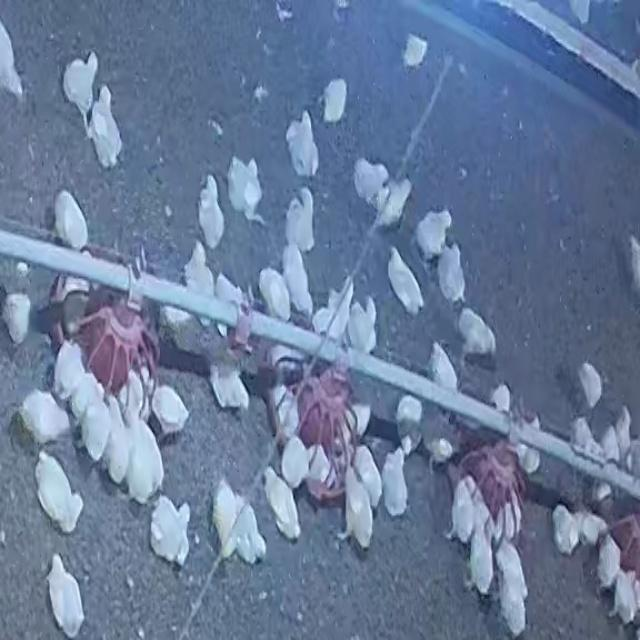chicken: (34, 451, 85, 535), (124, 408, 168, 503), (45, 555, 87, 638), (493, 543, 529, 636), (17, 389, 73, 447), (149, 494, 192, 568), (339, 461, 373, 548), (226, 156, 267, 226), (86, 86, 121, 167), (263, 468, 301, 541), (52, 338, 91, 403), (61, 51, 97, 121), (80, 391, 115, 463), (0, 19, 29, 105), (385, 244, 421, 310), (53, 189, 90, 251), (208, 361, 252, 413), (104, 401, 132, 482), (230, 503, 266, 564), (281, 244, 312, 314), (150, 384, 190, 438), (284, 189, 316, 256), (197, 175, 225, 250), (211, 478, 239, 553), (213, 268, 247, 329), (448, 476, 478, 545), (322, 280, 354, 344), (380, 447, 409, 517), (284, 110, 315, 175), (460, 311, 499, 361), (258, 266, 292, 323), (468, 521, 494, 595), (347, 296, 379, 356), (353, 443, 382, 509), (441, 247, 476, 301), (610, 567, 640, 625), (280, 434, 312, 488), (595, 531, 623, 590), (418, 208, 451, 258), (1, 293, 32, 345), (336, 406, 378, 444), (186, 243, 214, 299), (428, 340, 458, 392), (381, 180, 419, 221), (550, 504, 579, 554), (349, 163, 388, 200), (320, 76, 350, 123), (493, 495, 523, 539), (576, 361, 602, 409), (396, 395, 424, 439), (271, 383, 297, 430), (307, 444, 333, 487), (580, 512, 610, 548), (571, 417, 596, 455), (614, 407, 632, 457), (423, 438, 454, 467), (400, 37, 426, 69), (600, 423, 620, 463), (488, 381, 511, 415), (519, 445, 542, 477), (568, 0, 593, 25)
